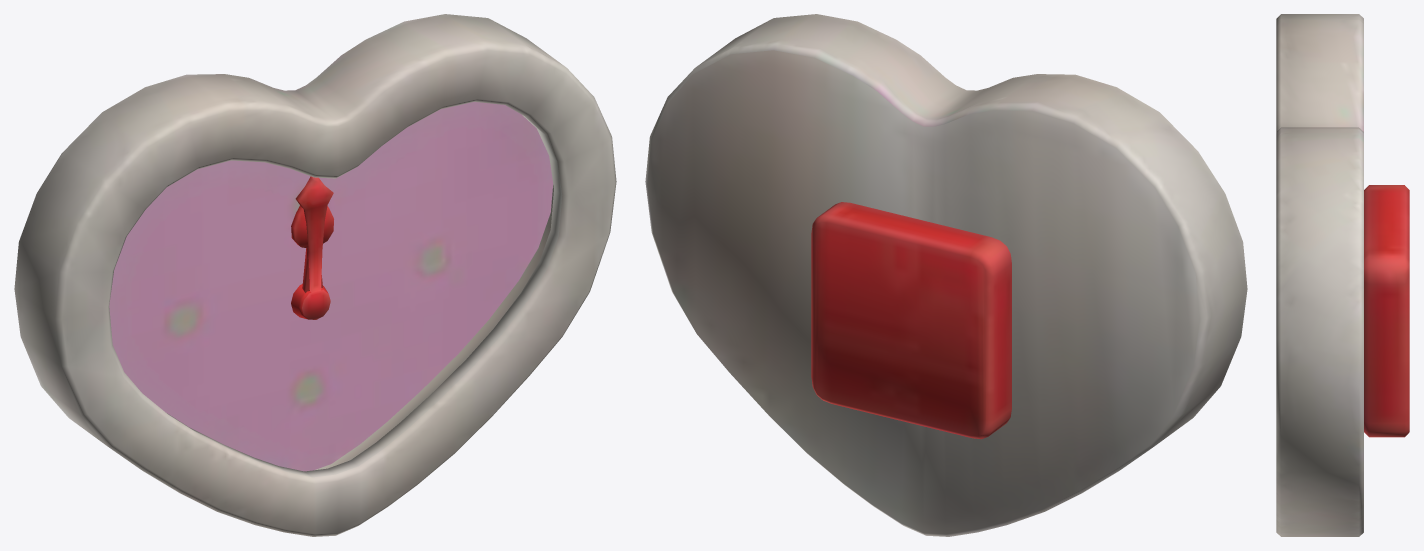
3 renders of one model, left to right at view 1: azimuth 30°, elevation 25°; view 2: azimuth 150°, elevation 25°; view 3: azimuth 270°, elevation 25°, orthographic. The views are drawn at different scales.
Size of the model in its own units: 8.23 by 6.41 by 1.76.
2 materials, 2 textured.
